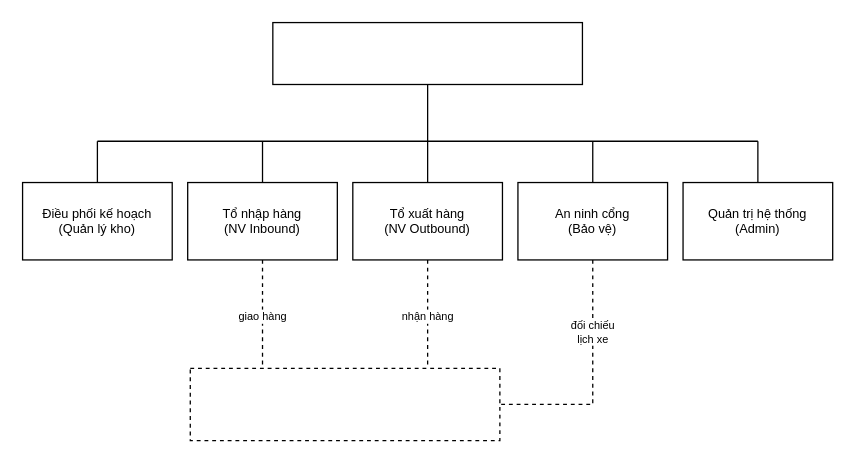
This 855x463 diagram has some shape labels left out. Each missing label, with the centre of its shape:
Quản lý kho trung chuyển: [427,52]
Đối tác bên ngoài (nhà xe, tài xế, chủ hàng): [344,404]
